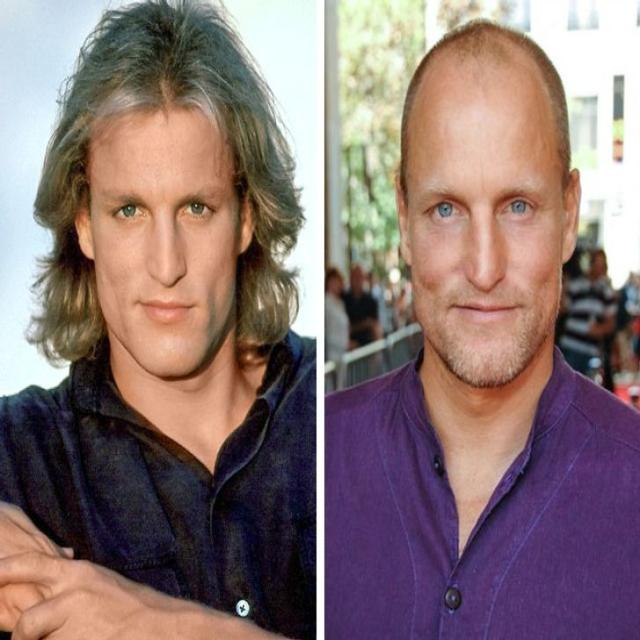no_helmet: (389, 20, 590, 222)
